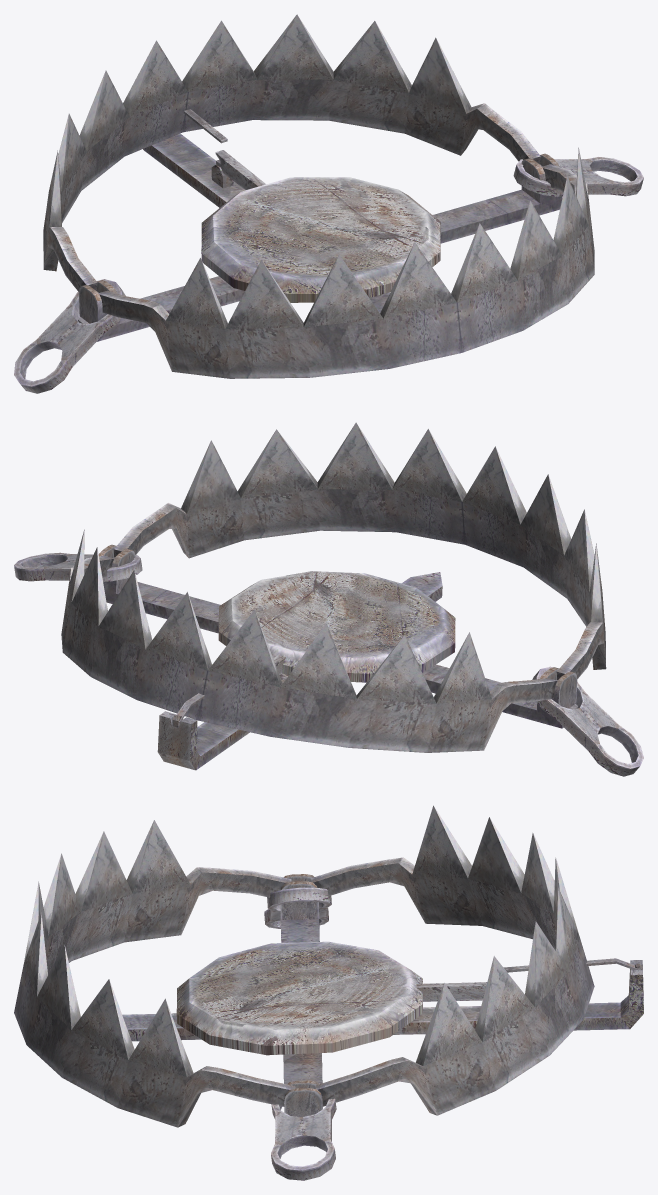
3 views of the same model, one above another, from view 1: azimuth 30°, elevation 25°; view 2: azimuth 150°, elevation 25°; view 3: azimuth 270°, elevation 25° (orthographic). The views are drawn at different scales.
Visible parts, largest first — view 1: Trap_LeftSide, Trap_RightSide, Trap_Center, Trap_Cross, Trap_1, Trap_4; view 2: Trap_RightSide, Trap_LeftSide, Trap_Center, Trap_Cross, Trap_1; view 3: Trap_RightSide, Trap_LeftSide, Trap_Center, Trap_Cross, Trap_1, Trap_4.
Part boxes in pixels (x1,y1,x2,y2): Trap_LeftSide: (98, 147, 594, 378); Trap_RightSide: (43, 14, 540, 291); Trap_Center: (201, 177, 440, 302); Trap_Cross: (78, 133, 562, 341); Trap_1: (14, 157, 643, 393); Trap_4: (215, 150, 265, 189); Trap_RightSide: (61, 529, 557, 752); Trap_LeftSide: (114, 422, 606, 679); Trap_Center: (218, 571, 455, 682); Trap_Cross: (98, 544, 577, 770); Trap_1: (14, 552, 643, 776); Trap_RightSide: (311, 805, 594, 1115); Trap_LeftSide: (14, 820, 295, 1127); Trap_Center: (176, 941, 422, 1055); Trap_Cross: (122, 874, 643, 1116); Trap_1: (264, 887, 336, 1180); Trap_4: (416, 982, 487, 1001).
Size of the model in its own units: 147 by 44.62 by 124.
1 material, 1 textured.
